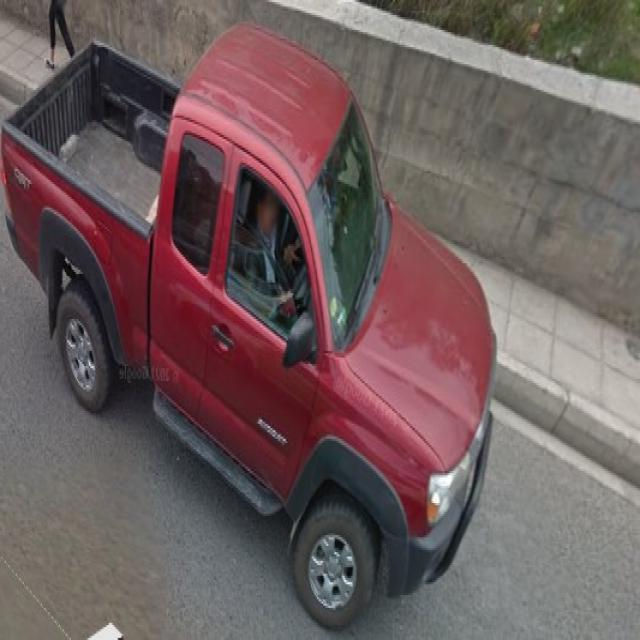car: (1, 20, 499, 631)
